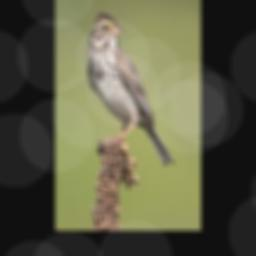Sparrow: (87, 11, 176, 165)
